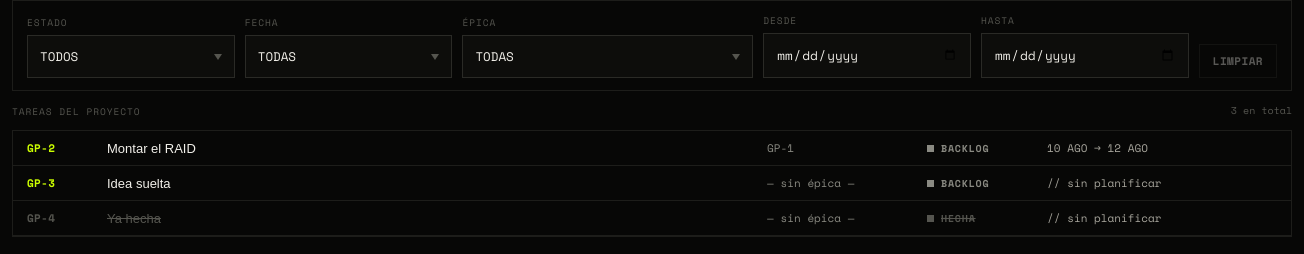
Test: BacklogView › filtra por estado y actualiza el contador
The image size is (1304, 254).
Select "HECHA" in the dropdown labelled "Estado" at (131, 56), box x1=27 y1=35 x2=235 y2=78
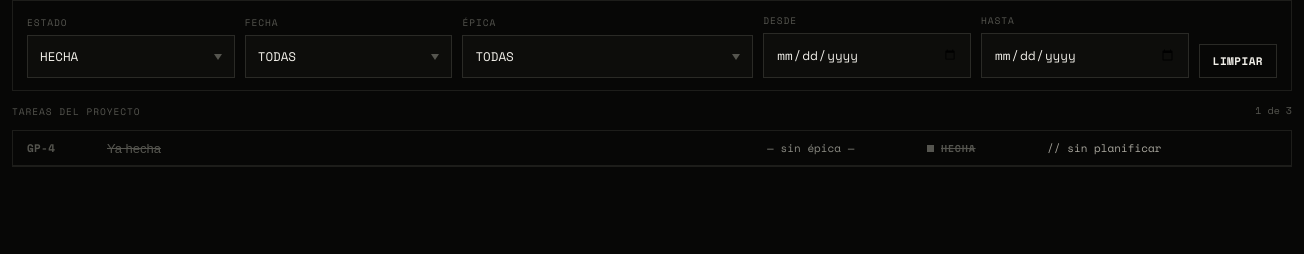
Check: the text "Ya hecha" is shown, box x1=107 y1=140 x2=161 y2=156
Check: the button "Idea suelta" is gone
Check: the text "1 de 3" is shown, box x1=1255 y1=103 x2=1292 y2=118
